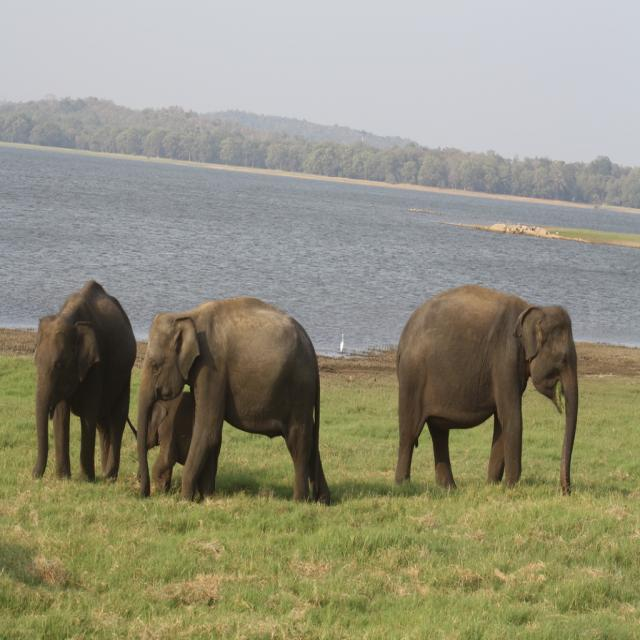elephant: (395, 282, 579, 495), (136, 312, 323, 506), (28, 282, 138, 488), (131, 398, 221, 502)
